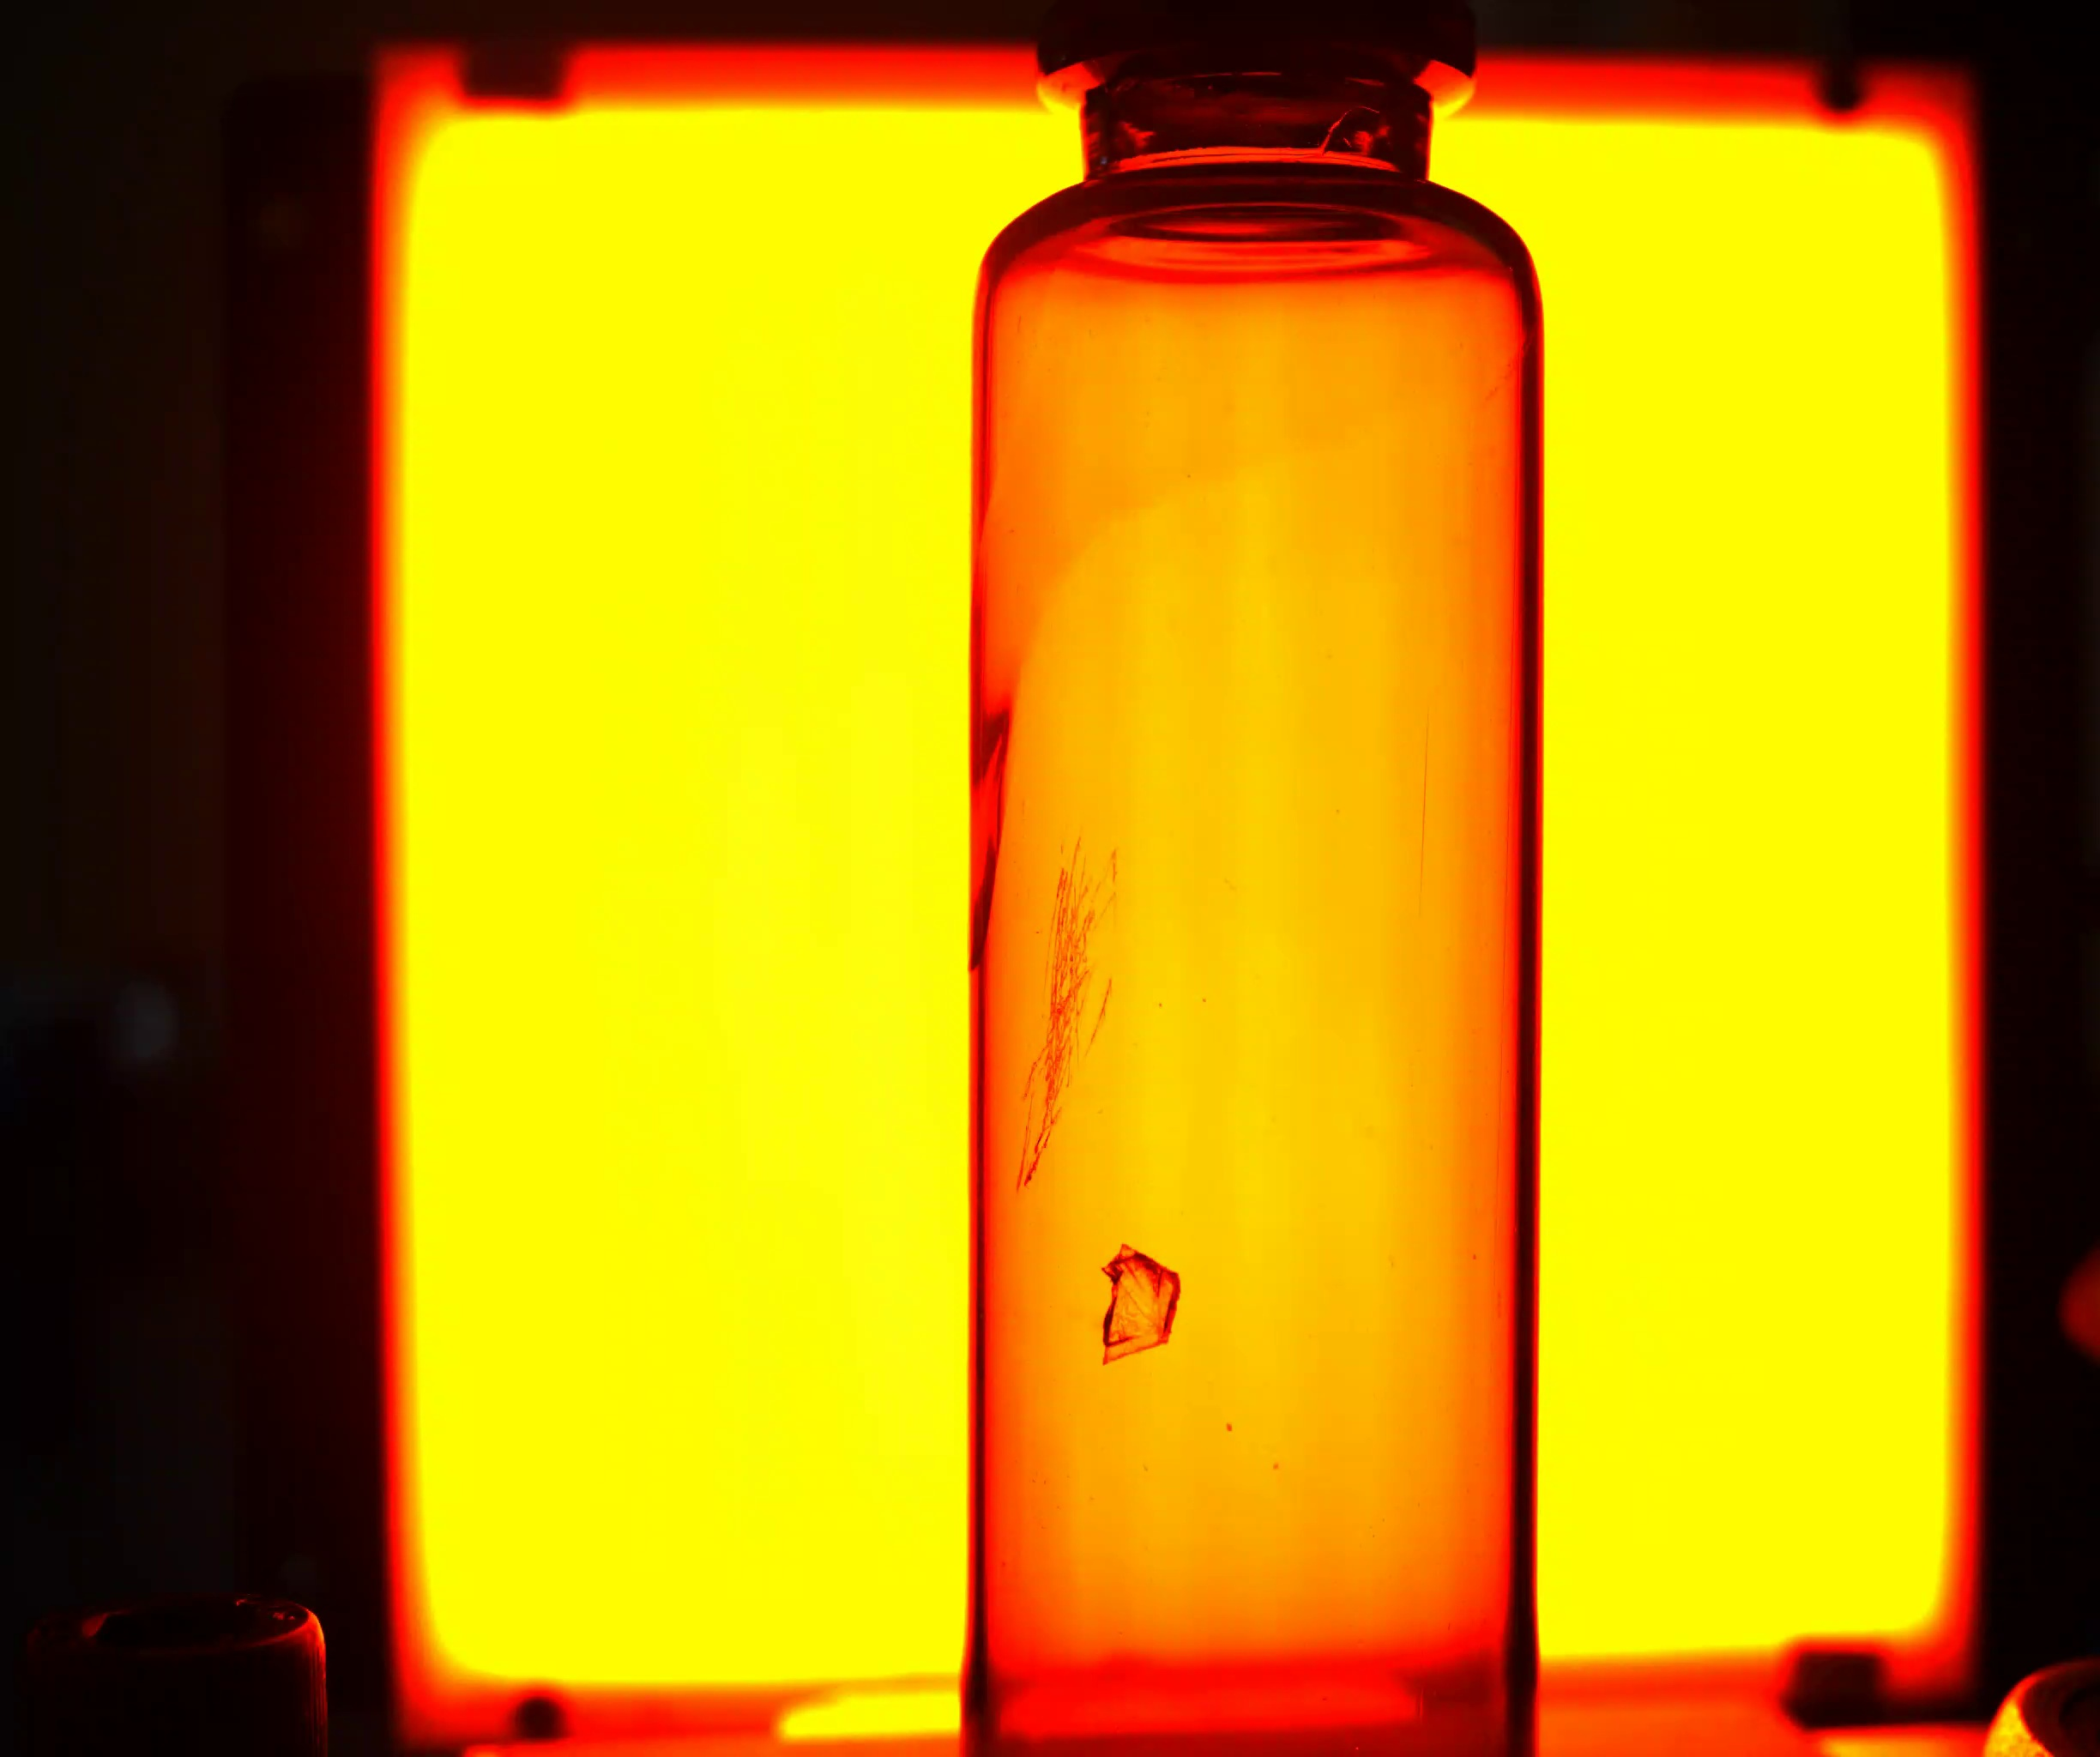scratch: (1019, 846, 1123, 1195)
thorny: (1101, 1241, 1183, 1364)
